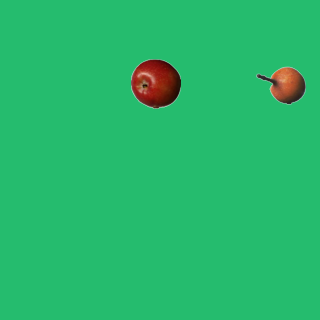Apple Braeburn: (130, 58, 180, 108)
Granadilla: (255, 60, 305, 110)
